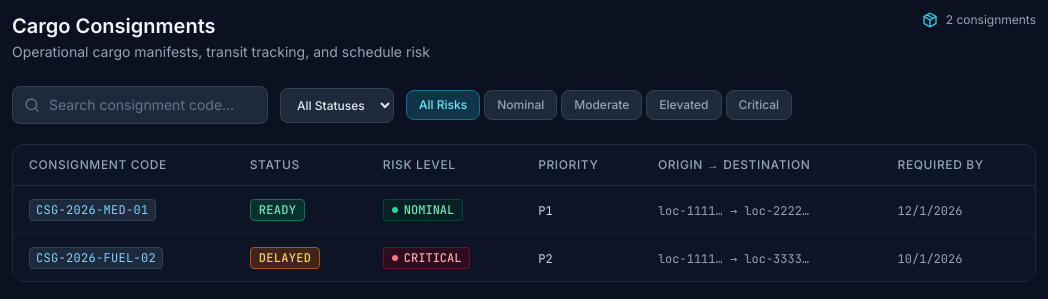
Test case: CargoPage › filters consignments by code search
Expected: the button "CSG-2026-MED-01" is shown, 29,198 -> 156,220
Type "FUEL" into the search field named "search consignments".
click(140, 105); type("FUEL")  # box 12,86 -> 268,124
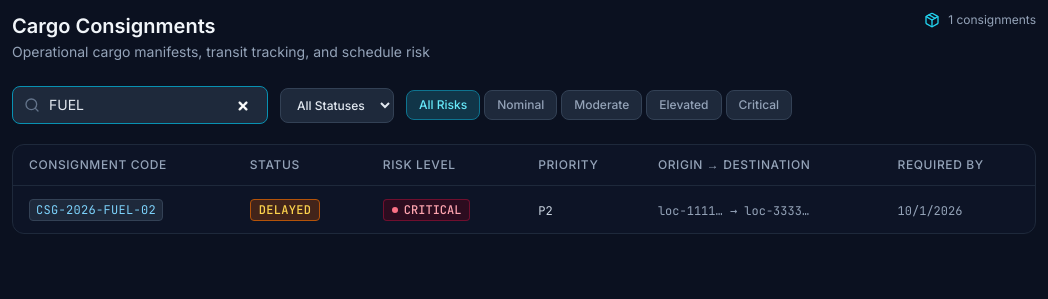
Expected: the button "CSG-2026-FUEL-02" is shown, 29,198 -> 163,220
Result: the button "CSG-2026-MED-01" is gone
